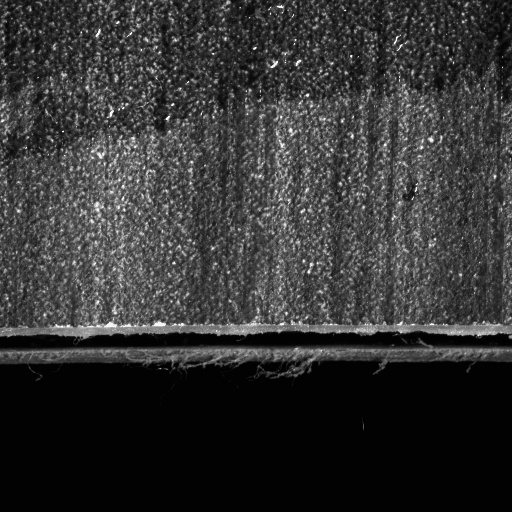kaijiao: (0, 323, 511, 366)
